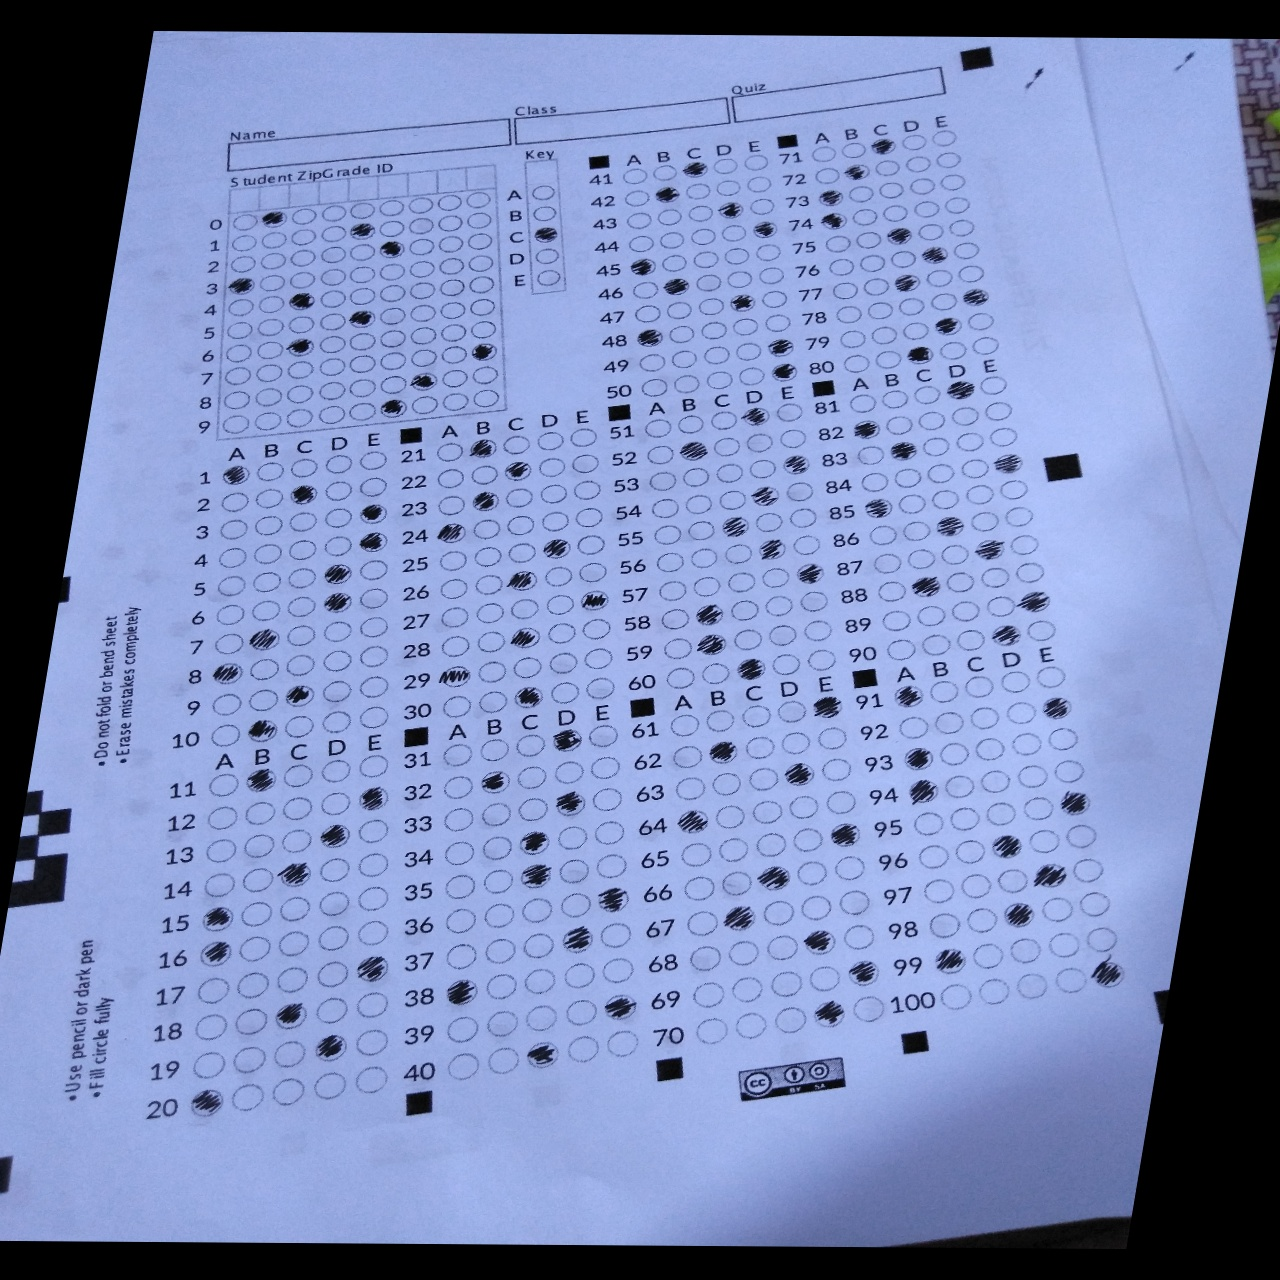not-c: (1083, 922, 1126, 954), (686, 979, 730, 1009), (1009, 972, 1054, 1002), (1046, 966, 1091, 995), (685, 1016, 730, 1046), (682, 945, 726, 975), (1042, 931, 1085, 961), (309, 959, 354, 988), (762, 968, 806, 998), (924, 911, 968, 940), (969, 976, 1014, 1006), (931, 983, 975, 1013), (727, 1012, 771, 1041), (353, 884, 396, 913), (511, 795, 554, 824), (552, 856, 595, 885), (312, 925, 355, 954), (846, 995, 890, 1024), (1073, 888, 1116, 918), (724, 974, 768, 1003), (804, 962, 847, 992), (440, 907, 482, 937), (768, 1006, 810, 1035), (519, 931, 561, 960), (440, 941, 482, 971), (232, 1006, 274, 1035), (561, 1033, 604, 1062), (561, 998, 604, 1027), (236, 900, 278, 930), (1037, 896, 1080, 925), (762, 932, 804, 961), (745, 797, 788, 826), (758, 897, 801, 926), (551, 824, 594, 852), (268, 1041, 312, 1069), (307, 996, 350, 1024), (312, 890, 355, 918), (352, 990, 395, 1019), (271, 931, 314, 959), (1001, 937, 1044, 965), (708, 802, 751, 830), (791, 859, 835, 887), (828, 853, 871, 881), (680, 908, 723, 937), (945, 806, 988, 835), (476, 835, 520, 862), (590, 818, 632, 846), (512, 765, 554, 794), (516, 896, 558, 924), (519, 967, 561, 995), (481, 972, 523, 1000), (478, 938, 520, 966), (443, 1051, 485, 1080), (442, 1014, 484, 1042), (350, 1065, 393, 1094), (268, 1078, 311, 1107), (308, 1073, 350, 1101), (349, 1028, 392, 1056), (349, 920, 392, 948), (602, 1029, 645, 1057), (520, 1003, 563, 1032), (557, 961, 599, 989), (193, 976, 236, 1005), (710, 835, 753, 863), (750, 830, 792, 858), (784, 791, 826, 819), (678, 874, 720, 903), (978, 799, 1020, 828), (1030, 663, 1073, 692), (591, 852, 634, 879), (475, 869, 518, 896), (481, 1010, 524, 1037), (190, 1012, 233, 1039), (835, 888, 878, 915), (672, 842, 715, 869), (1068, 857, 1111, 884), (961, 907, 1005, 934), (947, 837, 990, 864), (713, 870, 756, 897), (969, 941, 1009, 971), (554, 890, 595, 918), (481, 901, 522, 930), (188, 1051, 229, 1080), (234, 935, 275, 964), (840, 922, 881, 951), (821, 787, 862, 815), (586, 787, 628, 813), (482, 1047, 524, 1074), (231, 971, 273, 998), (273, 966, 315, 993), (229, 1046, 271, 1073), (597, 922, 639, 949), (599, 958, 641, 985), (273, 896, 315, 922), (794, 894, 836, 921), (787, 828, 829, 855), (1024, 828, 1067, 855), (1017, 794, 1060, 821), (990, 869, 1033, 896), (955, 872, 998, 899), (907, 811, 949, 838), (683, 945, 726, 972), (1060, 824, 1103, 850), (917, 879, 960, 905), (229, 1084, 270, 1111), (907, 843, 949, 869), (722, 940, 764, 966), (794, 590, 833, 617), (761, 622, 801, 649), (239, 799, 280, 825), (440, 774, 481, 799), (665, 712, 703, 738), (689, 576, 728, 602), (813, 726, 853, 751), (976, 765, 1016, 791), (965, 703, 1005, 729), (704, 771, 744, 797), (801, 618, 840, 644), (804, 646, 844, 672), (652, 606, 692, 632), (951, 627, 990, 653), (788, 532, 828, 558), (881, 638, 921, 663), (779, 477, 819, 503), (662, 665, 700, 692), (278, 763, 319, 788), (200, 838, 241, 863), (275, 829, 316, 853), (587, 726, 628, 750), (440, 809, 481, 833), (742, 767, 781, 792), (741, 735, 779, 761), (738, 704, 777, 730), (777, 731, 816, 757), (774, 700, 812, 726), (925, 679, 964, 704), (971, 734, 1009, 760), (996, 669, 1035, 695), (1044, 726, 1083, 751), (1050, 757, 1089, 783), (668, 743, 707, 769), (688, 574, 727, 600), (656, 636, 695, 662), (729, 626, 768, 652), (1023, 617, 1062, 642), (912, 602, 951, 628), (877, 606, 915, 632), (769, 652, 808, 678), (787, 506, 825, 532), (240, 833, 280, 858), (278, 795, 318, 819), (315, 790, 355, 815), (478, 802, 518, 826), (585, 755, 625, 779), (549, 761, 588, 785), (512, 765, 552, 790), (513, 734, 553, 758), (475, 737, 515, 762), (442, 873, 482, 898), (441, 840, 481, 865), (931, 710, 971, 735), (670, 776, 710, 801), (944, 599, 983, 624), (702, 658, 738, 685), (1003, 700, 1041, 726), (940, 774, 978, 799), (440, 743, 481, 767), (314, 858, 355, 881), (239, 869, 280, 892), (200, 873, 241, 897), (205, 805, 244, 830), (934, 741, 973, 765), (817, 757, 856, 782), (961, 674, 1000, 699), (1007, 731, 1046, 756), (653, 578, 692, 602), (918, 633, 956, 658), (651, 549, 689, 573), (721, 568, 760, 593), (748, 510, 787, 535), (355, 819, 395, 843), (896, 716, 933, 741), (1014, 763, 1051, 788), (980, 595, 1017, 620), (1005, 533, 1042, 558), (679, 491, 716, 516), (678, 464, 715, 489), (726, 598, 763, 622), (501, 486, 539, 510), (469, 545, 508, 568), (543, 652, 581, 675), (578, 617, 617, 640), (508, 597, 546, 620), (474, 660, 512, 683), (319, 680, 358, 703), (318, 620, 356, 644), (207, 692, 246, 715), (210, 633, 248, 656), (209, 604, 247, 627), (356, 852, 395, 876), (701, 709, 740, 733), (1000, 505, 1039, 529), (713, 486, 751, 510), (1010, 560, 1047, 585), (710, 462, 747, 486), (538, 510, 576, 533), (536, 482, 573, 505), (358, 558, 395, 581), (440, 633, 477, 656), (436, 605, 474, 628), (580, 646, 618, 669), (546, 680, 584, 703), (472, 631, 510, 654), (354, 706, 392, 729), (356, 645, 394, 668), (206, 772, 244, 796), (356, 754, 394, 777), (281, 715, 319, 738), (281, 654, 319, 678), (282, 624, 320, 647), (244, 688, 281, 712), (248, 599, 286, 622), (681, 518, 719, 542), (719, 542, 756, 565), (570, 505, 608, 527), (570, 481, 608, 503), (502, 542, 540, 564), (509, 658, 547, 680), (542, 621, 580, 644), (318, 648, 356, 670), (583, 676, 621, 699), (318, 760, 356, 782), (282, 595, 321, 618), (760, 595, 798, 618), (438, 695, 475, 719), (744, 457, 781, 481), (757, 566, 794, 590), (574, 560, 612, 583), (503, 515, 540, 537), (470, 573, 508, 595), (474, 689, 511, 712), (247, 658, 285, 680), (207, 726, 245, 748), (641, 443, 676, 467), (924, 461, 959, 484), (871, 552, 906, 576), (855, 443, 890, 467), (915, 409, 951, 433), (358, 587, 394, 610), (539, 565, 576, 587), (542, 594, 578, 617), (472, 602, 509, 625), (358, 675, 394, 697), (355, 617, 392, 639), (687, 546, 721, 570), (876, 579, 910, 602), (651, 524, 685, 547), (944, 570, 978, 593), (573, 535, 611, 556), (319, 712, 356, 733), (468, 464, 503, 486), (499, 435, 535, 457), (437, 578, 472, 600), (433, 467, 468, 489), (896, 491, 931, 513), (645, 471, 680, 493), (967, 511, 1002, 533), (899, 519, 934, 542), (903, 547, 938, 570), (978, 564, 1013, 586), (742, 431, 777, 454), (908, 383, 944, 406), (952, 430, 987, 452), (981, 400, 1016, 422), (975, 374, 1010, 396), (879, 388, 914, 410), (772, 402, 808, 424), (881, 414, 917, 436), (708, 436, 743, 458), (642, 417, 678, 440), (433, 440, 467, 462), (535, 457, 568, 479), (891, 468, 925, 490), (867, 524, 901, 546), (857, 471, 891, 493), (649, 497, 683, 519), (959, 457, 993, 479), (930, 488, 964, 510), (964, 483, 998, 505), (939, 542, 973, 564), (948, 406, 982, 428), (775, 428, 809, 450), (917, 436, 951, 458), (847, 393, 881, 415), (674, 415, 708, 437), (471, 518, 506, 539), (533, 431, 568, 452), (358, 477, 392, 498), (568, 454, 602, 475), (568, 427, 602, 448), (436, 495, 470, 516), (435, 550, 469, 571), (998, 479, 1032, 501), (988, 425, 1022, 447), (434, 234, 467, 256), (322, 454, 355, 475), (321, 481, 354, 502), (356, 449, 389, 470), (287, 567, 320, 588), (217, 547, 250, 568), (219, 491, 252, 512), (706, 411, 738, 433), (322, 535, 355, 556), (254, 316, 286, 338), (282, 407, 314, 428), (751, 241, 783, 263), (434, 195, 467, 215), (377, 350, 410, 370), (407, 304, 440, 324), (222, 343, 254, 363), (286, 539, 319, 559), (285, 512, 318, 532), (253, 489, 286, 509), (215, 576, 247, 595), (217, 520, 250, 540), (822, 234, 855, 254), (806, 144, 839, 164), (631, 304, 663, 324), (625, 234, 658, 254), (322, 508, 355, 527), (284, 384, 315, 404), (469, 365, 501, 384), (437, 256, 469, 275), (468, 297, 499, 316), (467, 275, 498, 295), (346, 243, 377, 263), (346, 377, 377, 397), (251, 571, 282, 591), (251, 544, 282, 564), (253, 515, 285, 535), (619, 166, 651, 186), (760, 290, 791, 309), (653, 209, 685, 229), (689, 251, 721, 271), (723, 270, 755, 290), (629, 280, 661, 300), (906, 176, 938, 196), (900, 154, 932, 173), (965, 311, 996, 331), (862, 275, 893, 295), (896, 297, 927, 316), (316, 205, 349, 224), (527, 182, 560, 200), (377, 306, 410, 325), (407, 326, 440, 345), (407, 281, 440, 300), (406, 259, 438, 278), (745, 196, 778, 215), (692, 273, 724, 292), (686, 203, 719, 222), (731, 340, 764, 359), (829, 282, 862, 301), (836, 329, 869, 348), (910, 199, 942, 218), (869, 325, 901, 343), (849, 207, 881, 226), (375, 263, 406, 282), (438, 324, 469, 343), (259, 229, 290, 248), (287, 248, 318, 268), (287, 229, 318, 248), (253, 387, 284, 407), (347, 331, 377, 350), (319, 290, 349, 309), (740, 154, 770, 173), (667, 324, 697, 343), (729, 316, 760, 336), (640, 379, 670, 399), (622, 188, 653, 207), (915, 222, 946, 241), (844, 184, 874, 204), (316, 358, 347, 377), (433, 215, 467, 232), (287, 207, 319, 226), (346, 203, 377, 222), (375, 198, 407, 217), (533, 268, 565, 287), (527, 204, 559, 223), (440, 393, 471, 411), (377, 374, 409, 393), (377, 284, 409, 302), (375, 219, 407, 238), (406, 238, 437, 257), (435, 300, 467, 319), (435, 278, 467, 297), (468, 320, 499, 339), (346, 265, 377, 284), (257, 274, 288, 293), (220, 390, 252, 409), (222, 366, 253, 384), (224, 322, 256, 341), (225, 299, 257, 318), (226, 256, 258, 274), (230, 234, 261, 253), (284, 361, 315, 380), (286, 315, 318, 334), (316, 246, 348, 265), (319, 225, 350, 244), (251, 411, 282, 430), (254, 340, 286, 359), (315, 406, 347, 424), (346, 355, 377, 374), (254, 462, 286, 481), (712, 177, 743, 196), (762, 314, 794, 333), (665, 301, 696, 320), (661, 254, 693, 273), (701, 346, 733, 365), (697, 321, 729, 340), (687, 229, 719, 247), (683, 182, 715, 200), (736, 366, 768, 384), (721, 246, 753, 265), (636, 354, 668, 373), (934, 340, 966, 359), (968, 336, 1000, 355), (840, 353, 872, 372), (888, 248, 920, 267), (874, 181, 906, 199), (924, 268, 955, 287), (954, 264, 986, 282), (949, 241, 981, 260), (945, 218, 976, 237), (937, 172, 968, 191), (932, 150, 964, 169), (857, 253, 888, 272), (229, 213, 259, 232), (406, 196, 436, 215), (531, 248, 561, 267), (463, 190, 493, 209), (440, 368, 470, 387), (470, 389, 501, 408), (377, 328, 408, 347), (409, 349, 440, 368), (438, 346, 469, 365), (465, 232, 496, 251), (347, 287, 377, 306), (409, 394, 440, 413), (254, 294, 285, 313), (258, 253, 288, 272), (222, 415, 252, 434), (286, 271, 316, 290), (254, 363, 285, 382), (316, 381, 347, 400), (347, 401, 377, 420), (316, 335, 347, 354), (316, 313, 347, 332), (290, 459, 320, 478), (708, 157, 738, 176), (672, 374, 702, 393), (667, 349, 697, 368), (656, 231, 687, 250), (649, 164, 680, 183), (695, 298, 726, 316), (720, 223, 750, 241), (930, 130, 960, 149), (833, 306, 864, 325), (826, 258, 857, 277), (813, 165, 844, 184), (622, 211, 653, 230), (873, 350, 904, 369), (878, 203, 908, 222), (873, 159, 904, 178), (899, 135, 930, 154), (942, 196, 973, 215), (865, 300, 896, 319), (838, 142, 869, 161), (901, 321, 932, 340), (408, 215, 435, 236), (467, 211, 496, 230), (465, 256, 495, 274), (316, 268, 346, 287), (757, 266, 787, 285), (743, 173, 772, 192), (704, 370, 734, 389), (930, 292, 959, 311), (855, 230, 884, 248)
taken-c: (824, 821, 869, 850), (188, 1088, 230, 1118), (1037, 693, 1080, 723), (309, 1034, 353, 1063), (1088, 960, 1131, 989), (753, 864, 796, 893), (985, 832, 1028, 862), (885, 682, 928, 712), (809, 693, 852, 722), (799, 928, 844, 956), (1055, 790, 1099, 818), (268, 1001, 311, 1030), (522, 1040, 564, 1069), (844, 958, 886, 987), (901, 776, 944, 805), (1029, 862, 1073, 890), (808, 1000, 850, 1028), (928, 947, 971, 975), (894, 744, 937, 772), (354, 787, 397, 813), (440, 978, 483, 1005), (598, 995, 641, 1022), (557, 926, 600, 953), (517, 863, 560, 890), (353, 955, 396, 982), (314, 823, 358, 850), (998, 903, 1041, 930), (779, 760, 821, 788), (719, 905, 761, 932), (275, 862, 318, 888), (985, 624, 1027, 651), (592, 887, 635, 913), (197, 906, 240, 932), (516, 829, 554, 857), (195, 940, 237, 966), (906, 574, 947, 600), (1016, 588, 1055, 615), (551, 791, 591, 817), (884, 437, 922, 463), (971, 536, 1009, 561), (990, 450, 1029, 475), (436, 665, 474, 689), (932, 513, 969, 538), (241, 769, 280, 792), (508, 626, 544, 651), (511, 685, 549, 708), (245, 719, 282, 742), (207, 661, 245, 685), (790, 561, 828, 585), (675, 810, 712, 833), (550, 729, 586, 753), (706, 741, 742, 764), (942, 379, 979, 402), (860, 497, 897, 520), (282, 685, 320, 707), (733, 658, 770, 680), (476, 771, 513, 794), (539, 537, 574, 560), (959, 286, 994, 309), (903, 343, 938, 367), (930, 315, 966, 338), (467, 490, 502, 512), (320, 592, 355, 614), (321, 563, 356, 585), (356, 503, 392, 525), (693, 633, 728, 655), (692, 602, 727, 625), (748, 486, 784, 508), (467, 437, 501, 459), (578, 588, 612, 611), (719, 516, 753, 538), (849, 418, 883, 441), (247, 629, 282, 651), (287, 484, 322, 505), (755, 539, 790, 560), (883, 226, 918, 247), (815, 211, 851, 231), (358, 532, 392, 553), (220, 464, 254, 485), (508, 570, 542, 591), (434, 522, 468, 543), (840, 162, 874, 183), (917, 245, 951, 266), (890, 271, 922, 292), (377, 399, 411, 418), (501, 461, 535, 481), (678, 441, 712, 461), (769, 362, 803, 382), (727, 293, 761, 313), (813, 188, 847, 207), (869, 136, 900, 157), (713, 200, 745, 220), (765, 338, 798, 358), (779, 455, 813, 474), (661, 277, 693, 297), (284, 338, 315, 358), (225, 277, 257, 297), (738, 407, 771, 425), (680, 159, 710, 179), (409, 372, 440, 392), (257, 210, 288, 229), (634, 329, 666, 348), (627, 257, 659, 275), (652, 185, 683, 204), (469, 342, 501, 361), (346, 309, 377, 328), (286, 292, 318, 311), (346, 222, 377, 240), (377, 241, 409, 260), (527, 225, 559, 244), (750, 220, 779, 239)
